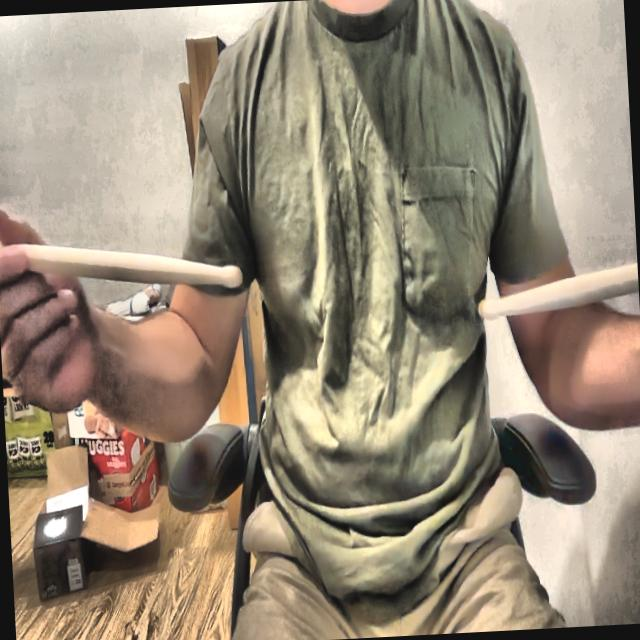Drumstick-Heads: (472, 288, 504, 330), (222, 256, 247, 298)
